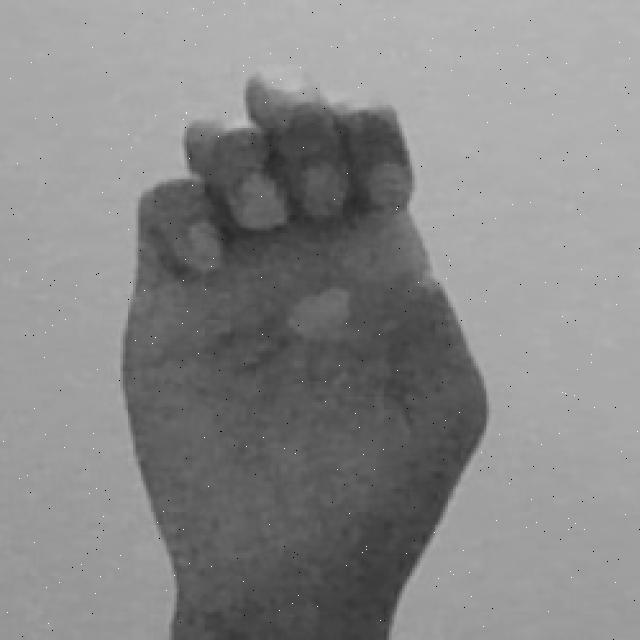E: (118, 64, 489, 640)
